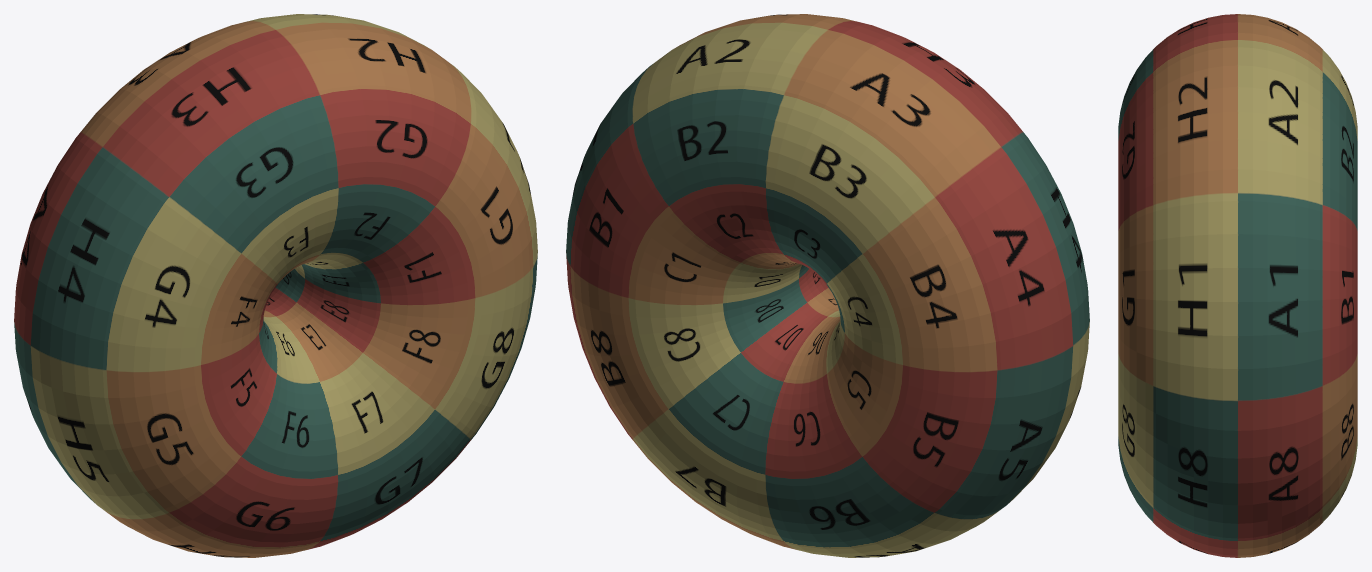
File: texture_torus_R1_r24.glb
The picture shows the model from 3 angles, left to right: view 1: azimuth 30°, elevation 25°; view 2: azimuth 150°, elevation 25°; view 3: azimuth 270°, elevation 25°; orthographic projection. The views are drawn at different scales.
Parts seen in each view (by area): view 1: world; view 2: world; view 3: world.
Part boxes in pixels (box(x1,y1,x2,y2)): world: box(14, 14, 537, 557); world: box(566, 14, 1089, 557); world: box(1118, 14, 1357, 557).
Bounding box in the file's own units: 19.07 × 19.03 × 8.38.
1 material, 1 textured.
